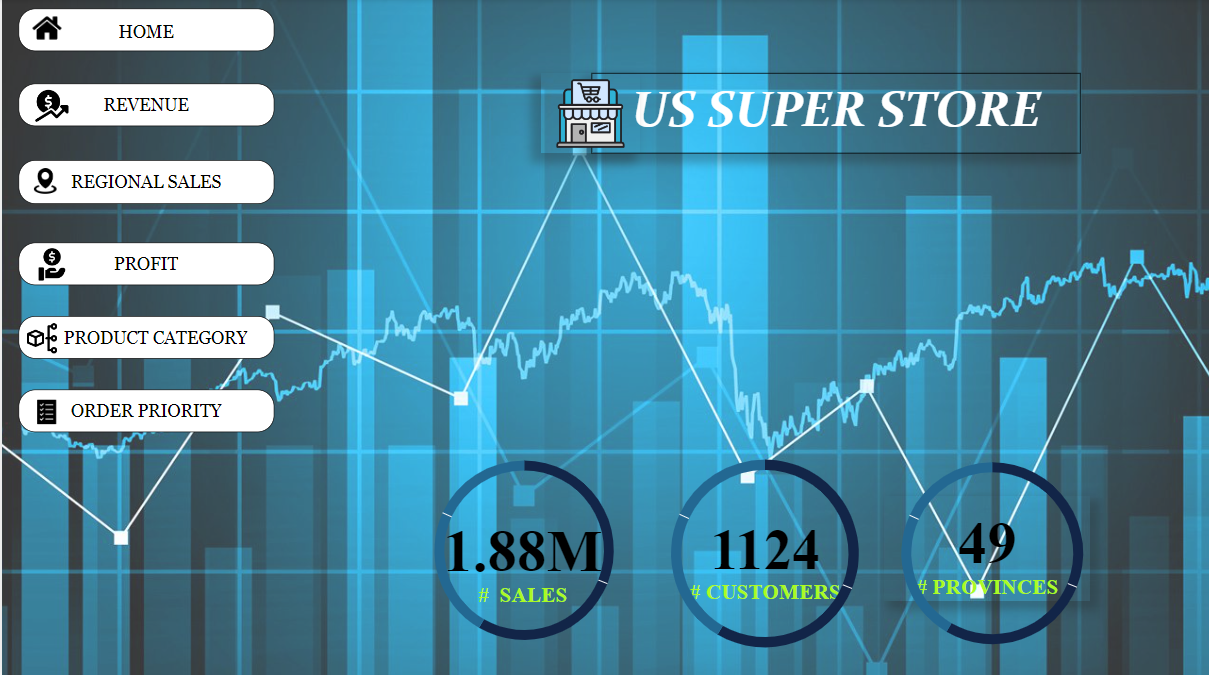

What the dashboard file says about the page in this screenshot:
{"tool":"powerbi","page":{"name":"HOME","canvas":[1280,720],"ordinal":0},"visuals":[{"type":"actionButton","title":"HOME","box":[17.8,11.1,271.1,45.6],"z":0},{"type":"actionButton","title":"REGIONAL SALES","box":[17.8,171.1,271.1,46.7],"z":1000},{"type":"actionButton","title":"PROFIT","box":[17.8,258.9,271.1,45.6],"z":2000},{"type":"actionButton","box":[17.8,415.6,271.1,45.6],"z":3000},{"type":"actionButton","box":[17.8,336.7,271.1,45.6],"z":4000},{"type":"actionButton","box":[17.8,90,271.1,45.6],"z":5000},{"type":"image","box":[23.3,258.9,57.8,46.7],"z":6000},{"type":"image","box":[26.7,11.1,41.1,41.1],"z":7000},{"type":"image","box":[26.7,420,41.1,37.8],"z":8000},{"type":"image","box":[23.3,174.4,44.4,37.8],"z":9000},{"type":"textbox","box":[624.4,80,518.9,85.6],"z":10000},{"type":"image","box":[23.3,90,57.8,45.6],"z":11000},{"type":"image","box":[17.8,336.7,50,46.7],"z":12000},{"type":"group","id":"g1","title":"HOME FILTER","box":[428.9,456,759.4,264.4],"z":13000},{"type":"image","box":[571.1,80,105.6,85.6],"z":14000},{"type":"card","title":"PROVINCES","fields":{"Values":["Count(DataSheet.State or Province)"]},"box":[934.3,528,218.6,111.4],"z":15500,"group":"g1"},{"type":"card","title":"CUSTOMERS","fields":{"Values":["Count(DataSheet.Customer ID)"]},"box":[718.6,529.5,180,122.9],"z":15562,"group":"g1"},{"type":"card","title":"SALES","fields":{"Values":["Sum(DataSheet.Sales)"]},"box":[452.9,510.9,197.1,160],"z":15625,"group":"g1"},{"type":"donutChart","fields":{"Category":["DataSheet.Manager"],"Y":["Sum(DataSheet.Sales)"]},"box":[911.6,461.7,276.7,251.1],"z":15750,"group":"g1"},{"type":"donutChart","fields":{"Category":["DataSheet.Manager"],"Y":["Sum(DataSheet.Sales)"]},"box":[679,456,258.9,264.4],"z":15875,"group":"g1"},{"type":"donutChart","fields":{"Category":["DataSheet.Manager"],"Y":["Sum(DataSheet.Sales)"]},"box":[428.9,459.4,247.8,251.1],"z":17000,"group":"g1"}]}

Visuals, with their boxes in screenshot pixels (x1, y1, x2, y2), scaled from the page's 1280x720 canvas onto the 1209x675 screenshot:
"HOME" actionButton: 17, 10, 273, 53
"REGIONAL SALES" actionButton: 17, 160, 273, 204
"PROFIT" actionButton: 17, 243, 273, 285
actionButton: 17, 390, 273, 432
actionButton: 17, 316, 273, 358
actionButton: 17, 84, 273, 127
image: 22, 243, 77, 286
image: 25, 10, 64, 49
image: 25, 394, 64, 429
image: 22, 164, 64, 199
textbox: 590, 75, 1080, 155
image: 22, 84, 77, 127
image: 17, 316, 64, 359
"HOME FILTER" group: 405, 428, 1122, 674
image: 539, 75, 639, 155
"PROVINCES" card: 882, 495, 1089, 599
"CUSTOMERS" card: 679, 496, 849, 612
"SALES" card: 428, 479, 614, 629
donutChart - DataSheet.Manager x Sum(DataSheet.Sales): 861, 433, 1122, 668
donutChart - DataSheet.Manager x Sum(DataSheet.Sales): 641, 428, 886, 674
donutChart - DataSheet.Manager x Sum(DataSheet.Sales): 405, 431, 639, 666
